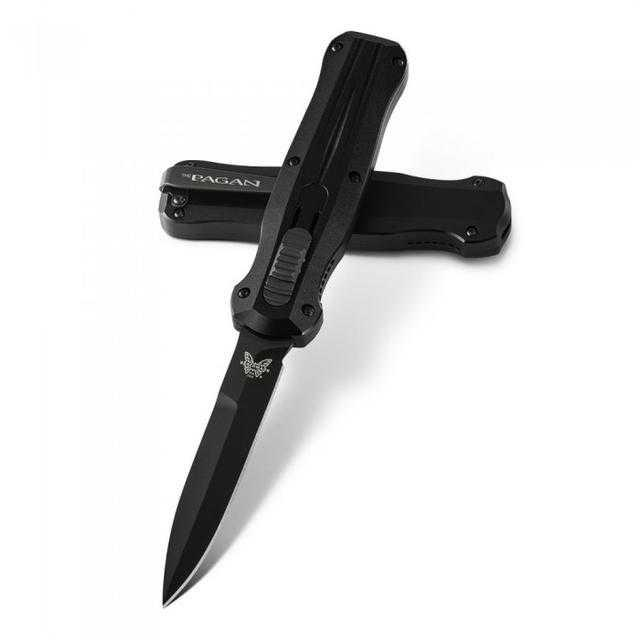Knife: (154, 7, 445, 614)
